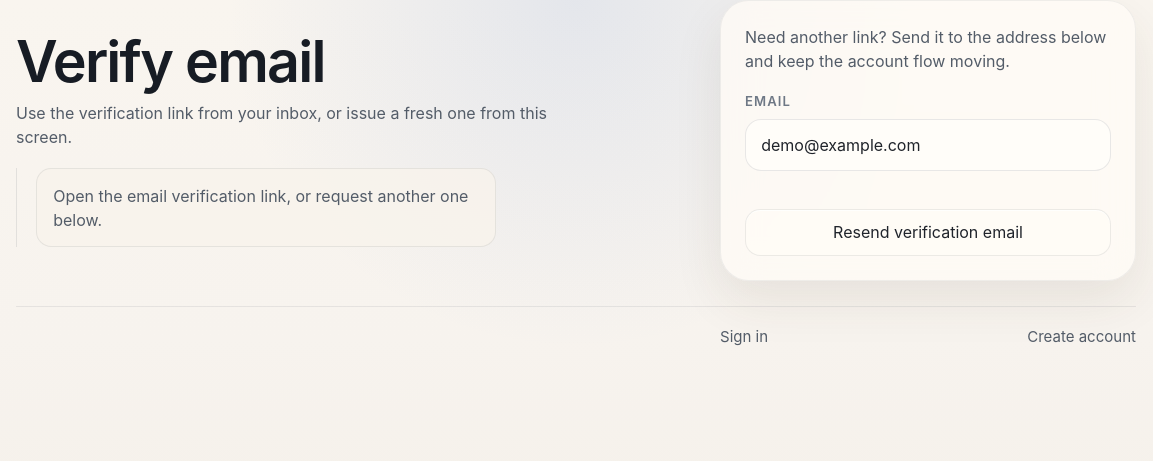
VerifyEmailPage › shows the shared calm protection message for resend protection failures
The width and height of the screenshot is (1153, 461).
Click the button "Resend verification email". click: [928, 232]
box: [745,209,1111,256]
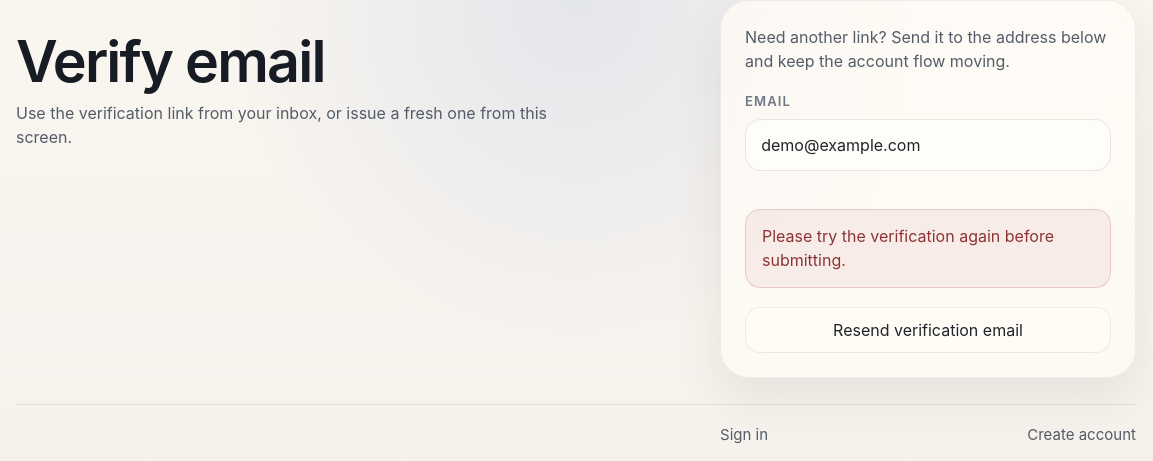
Now the text "Please try the verification again before submitting." is shown, box [745,209,1111,288]
